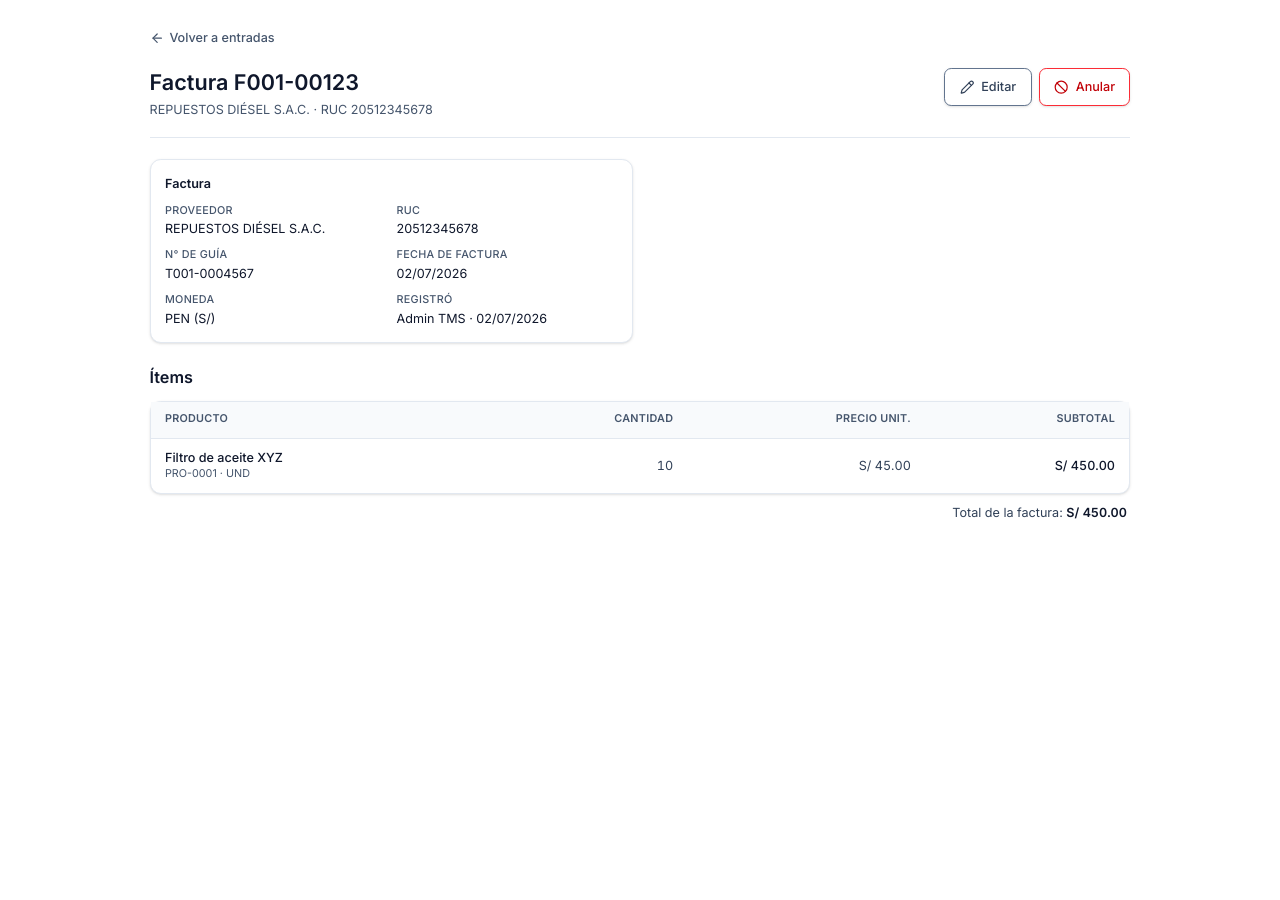
EntryDetailPage › anular con un motivo válido refleja el estado anulado
Click the button "Anular" at [1085, 87], box [1039, 68, 1130, 106]
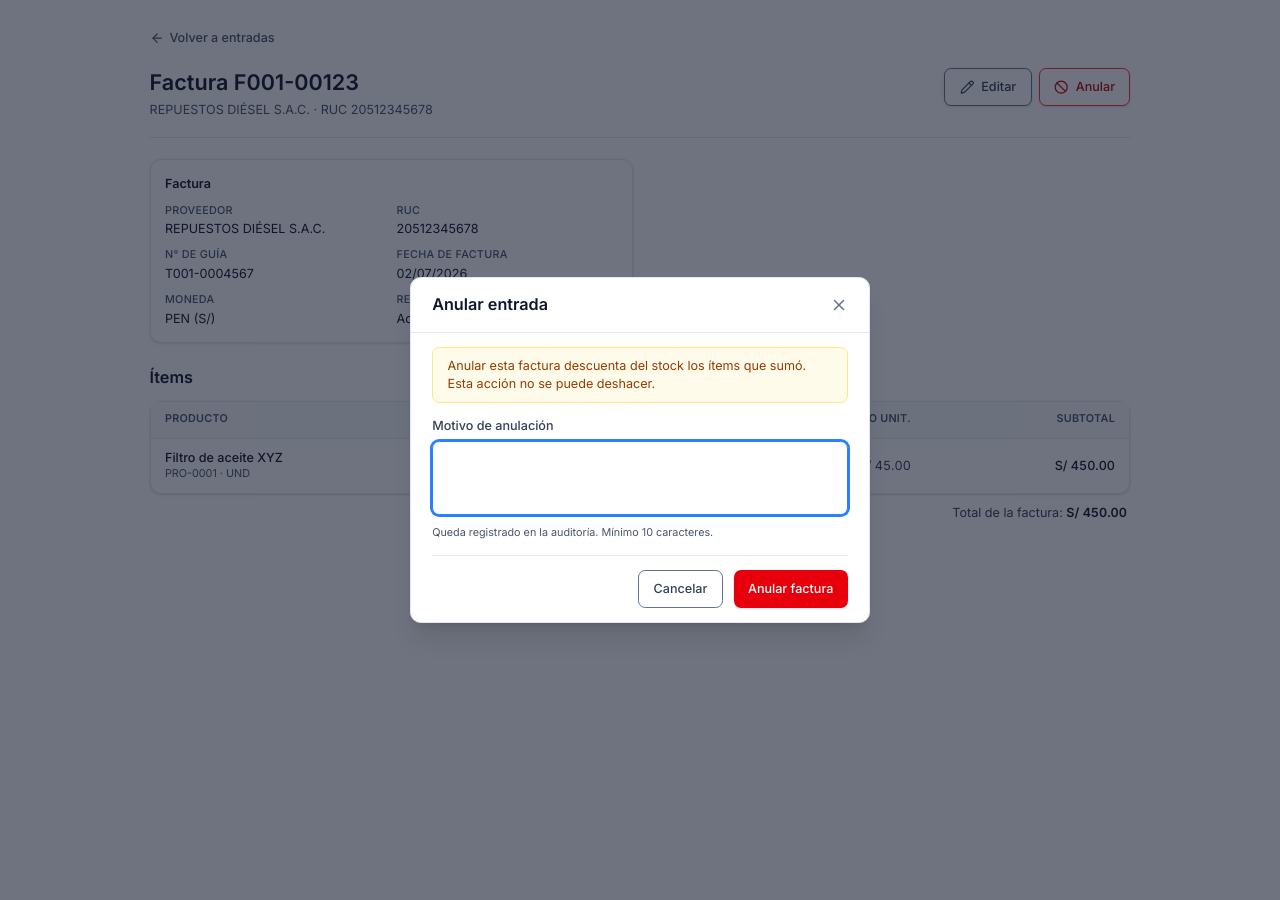
Type "Factura cargada dos veces por error" into the text box labelled "Motivo de anulación" at [640, 478], box [432, 441, 848, 515]
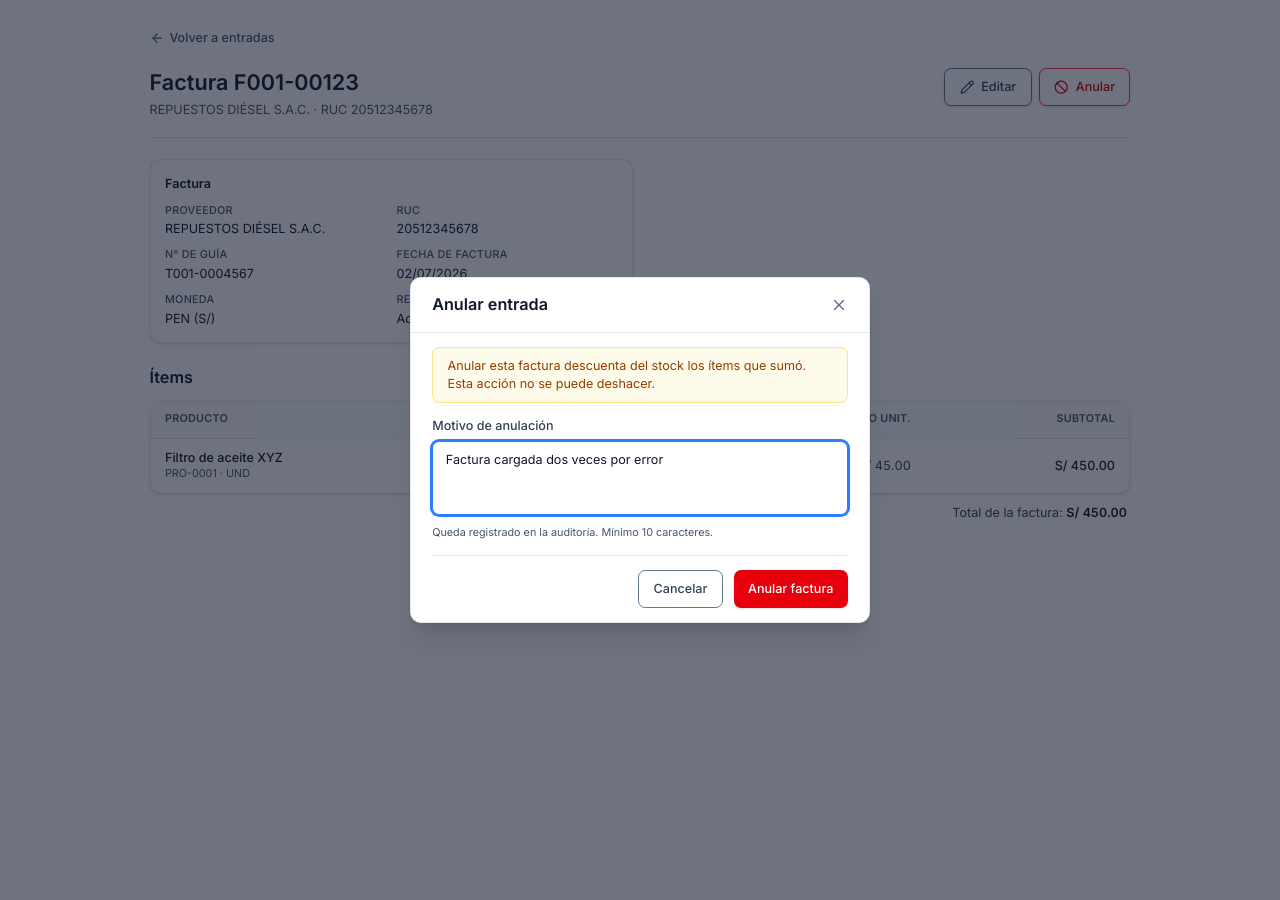
Click the button "Anular factura" at [791, 589], box [734, 570, 848, 608]
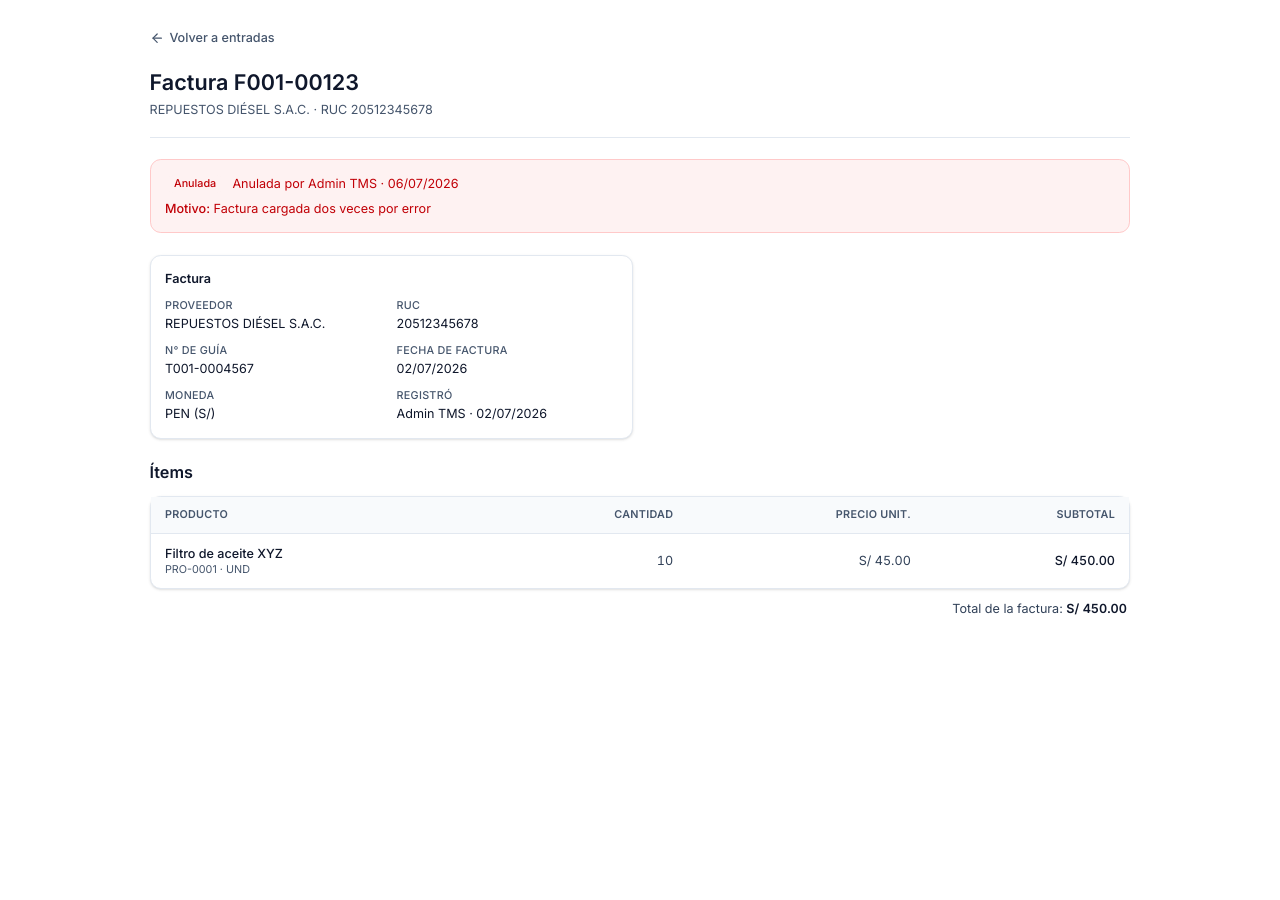
Expected: the dialog is gone
Expected: the text "Anulada" is shown, [165, 175, 225, 193]
Expected: the button "Anular" is gone
